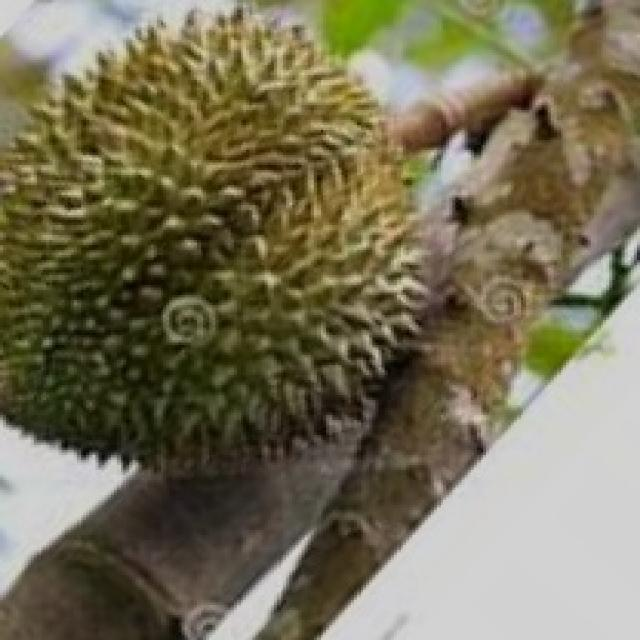fruit: (0, 160, 372, 547)
